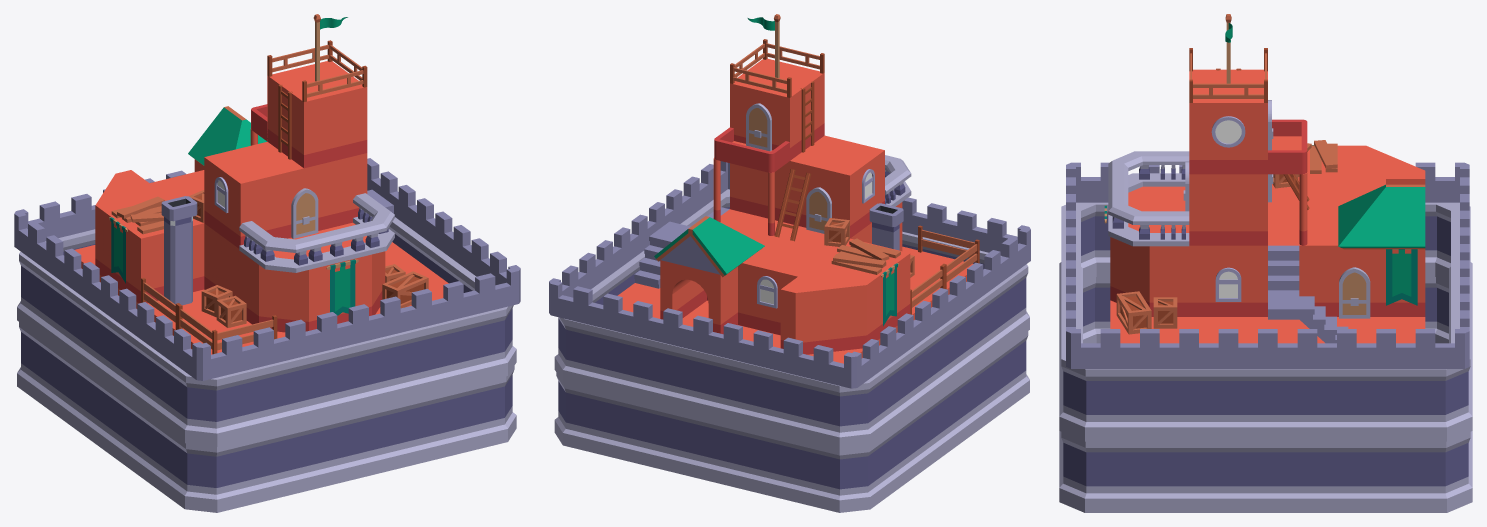
The model's file is Castle.fbx.
3 views of the same model, side by side, from view 1: azimuth 30°, elevation 25°; view 2: azimuth 150°, elevation 25°; view 3: azimuth 270°, elevation 25° (orthographic). The views are drawn at different scales.
Parts seen in each view (by area): view 1: mergedBlocks; view 2: mergedBlocks; view 3: mergedBlocks.
Boxes of the visible parts, x1,y1,x2,y2 form: mergedBlocks: (14,14,520,512); mergedBlocks: (549,14,1030,512); mergedBlocks: (1059,14,1472,512).
Bounding box in the file's own units: 52.5 × 60 × 52.5.
